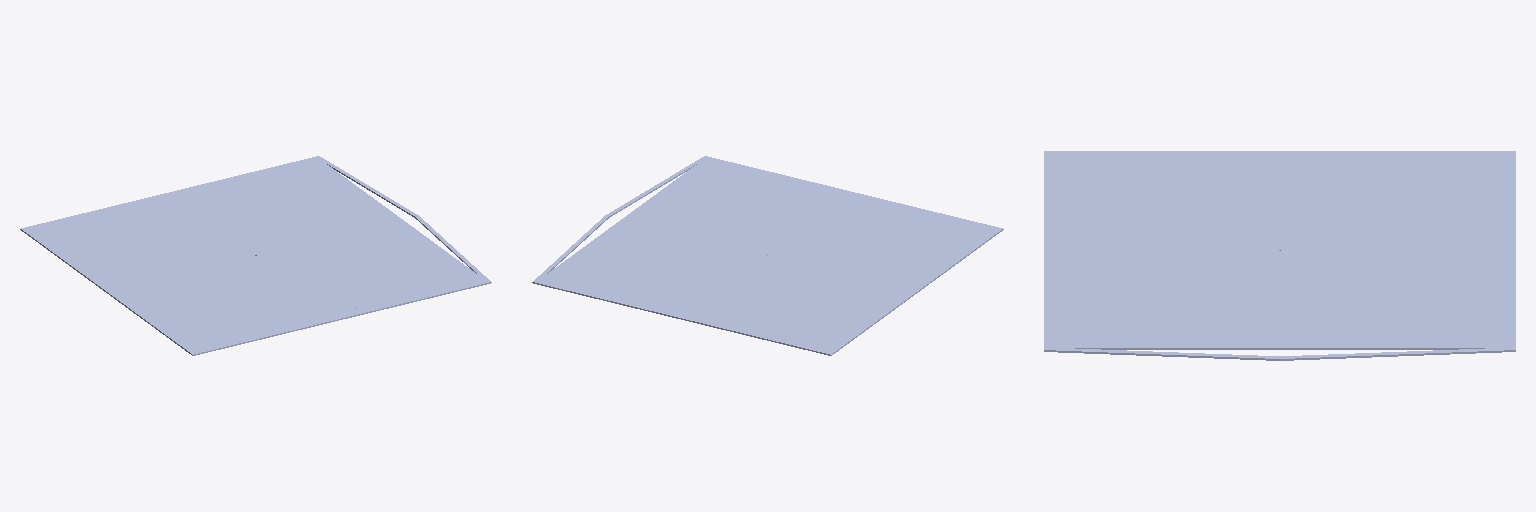
The robot description file, URDF, robot "test_bed":
<robot
  name="test_bed">
  <link
    name="BASE_BED">
    <inertial>
      <origin
        xyz="0 0 0"
        rpy="0 0 0" />
      <mass
        value="100" />
      <inertia
        ixx="80"
        ixy="0"
        ixz="0"
        iyy="80"
        iyz="0"
        izz="160" />
    </inertial>
    <visual>
      <origin
        xyz="0 0 0"
        rpy="0 0 0" />
      <geometry>
        <mesh
          filename="package://test_bed/meshes/BASE_BED.STL" />
      </geometry>
      <material
        name="">
        <color
          rgba="0.79216 0.81961 0.93333 1" />
      </material>
    </visual>
    <collision>
      <origin
        xyz="0 0 0"
        rpy="0 0 0" />
      <geometry>
        <mesh
          filename="package://test_bed/meshes/BASE_BED.STL" />
      </geometry>
    </collision>
  </link>
  <link
    name="PITCH_BED">
    <inertial>
      <origin
        xyz="0 0 0"
        rpy="0 0 0" />
      <mass
        value="100" />
      <inertia
        ixx="70"
        ixy="0"
        ixz="0"
        iyy="70"
        iyz="0"
        izz="140" />
    </inertial>
    <visual>
      <origin
        xyz="0 0 0"
        rpy="0 0 0" />
      <geometry>
        <mesh
          filename="package://test_bed/meshes/PITCH_BED.STL" />
      </geometry>
      <material
        name="">
        <color
          rgba="0.79216 0.81961 0.93333 1" />
      </material>
    </visual>
    <collision>
      <origin
        xyz="0 0 0"
        rpy="0 0 0" />
      <geometry>
        <mesh
          filename="package://test_bed/meshes/PITCH_BED.STL" />
      </geometry>
    </collision>
  </link>
  <joint
    name="PITCH_JOINT"
    type="continuous">
    <origin
      xyz="0 0 0"
      rpy="0 0 0" />
    <parent
      link="BASE_BED" />
    <child
      link="PITCH_BED" />
    <axis
      xyz="0 -1 0" />
  </joint>
  <link
    name="ROLL_BED">
    <inertial>
      <origin
        xyz="0 0 0"
        rpy="0 0 0" />
      <mass
        value="100" />
      <inertia
        ixx="33"
        ixy="0"
        ixz="0"
        iyy="33"
        iyz="0"
        izz="66" />
    </inertial>
    <visual>
      <origin
        xyz="0 0 0"
        rpy="0 0 0" />
      <geometry>
        <mesh
          filename="package://test_bed/meshes/ROLL_BED.STL" />
      </geometry>
      <material
        name="">
        <color
          rgba="0.79216 0.81961 0.93333 1" />
      </material>
    </visual>
    <collision>
      <origin
        xyz="0 0 0"
        rpy="0 0 0" />
      <geometry>
        <mesh
          filename="package://test_bed/meshes/ROLL_BED.STL" />
      </geometry>
    </collision>
  </link>
  <joint
    name="ROLL_JOINT"
    type="continuous">
    <origin
      xyz="0 0 0"
      rpy="0 0 0" />
    <parent
      link="PITCH_BED" />
    <child
      link="ROLL_BED" />
    <axis
      xyz="-1 0 0" />
  </joint>
</robot>

--- What the picture shows (computed from the rendered views, not written in the file) ---
The picture shows the robot from 3 angles, left to right: view 1: azimuth 30°, elevation 25°; view 2: azimuth 150°, elevation 25°; view 3: azimuth 270°, elevation 25°; orthographic projection.
Model test_bed with 3 links and 2 joints (2 continuous), rooted at BASE_BED, posed all joints at 0.
Links seen in each view (by area): view 1: ROLL_BED, BASE_BED, PITCH_BED; view 2: ROLL_BED, BASE_BED, PITCH_BED; view 3: ROLL_BED, BASE_BED, PITCH_BED.
Boxes of the visible links, x1,y1,x2,y2 form: ROLL_BED: (43,165,469,345); BASE_BED: (20,156,491,355); PITCH_BED: (32,160,479,349); ROLL_BED: (554,165,980,345); BASE_BED: (532,156,1003,355); PITCH_BED: (544,160,991,349); ROLL_BED: (1066,160,1493,340); BASE_BED: (1044,151,1515,360); PITCH_BED: (1055,155,1504,345).
Size in the robot's own frame: 2.3 by 2.2 by 0.01 metres.
Meshes: 3 distinct files referenced, 3 mesh visuals loaded (3 binary STL).
